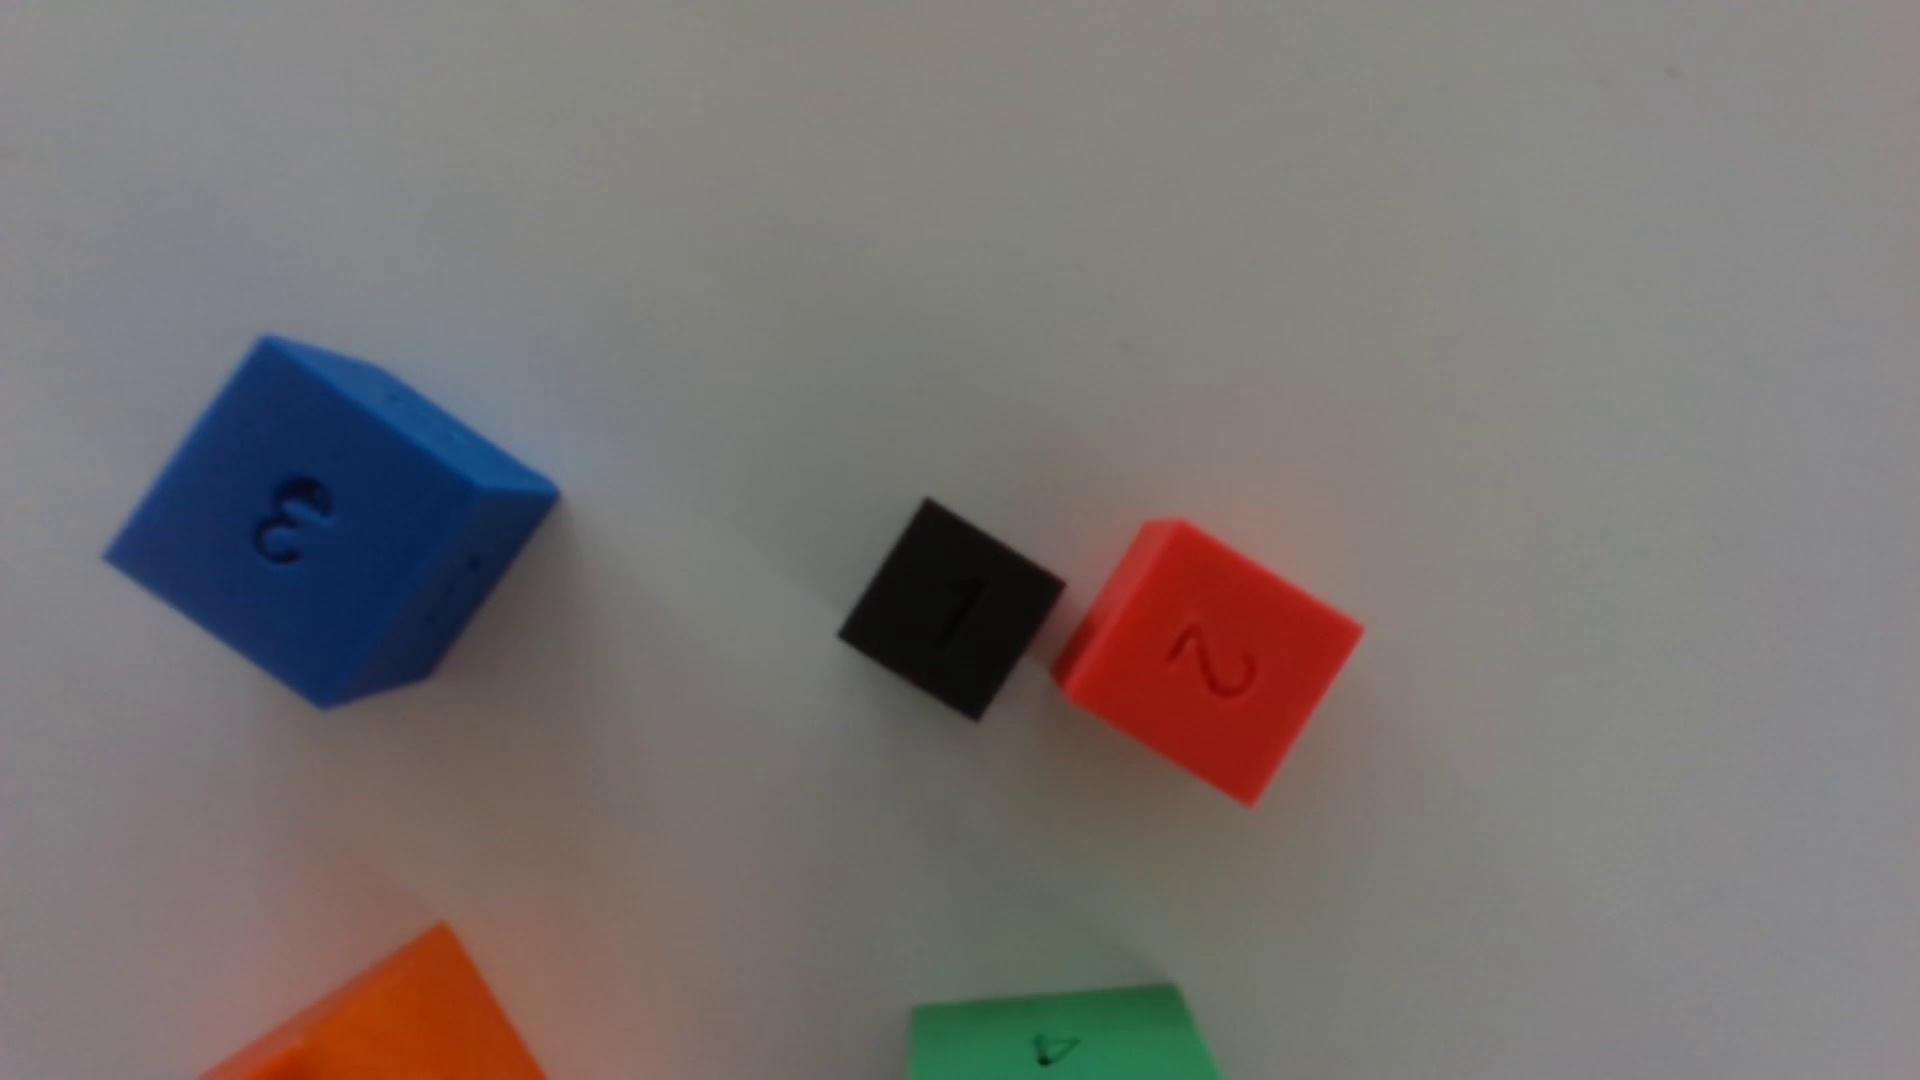black: (839, 500, 1065, 723)
blue: (105, 338, 559, 709)
green: (905, 985, 1220, 1080)
orange: (206, 926, 545, 1080)
red: (1052, 520, 1361, 807)
